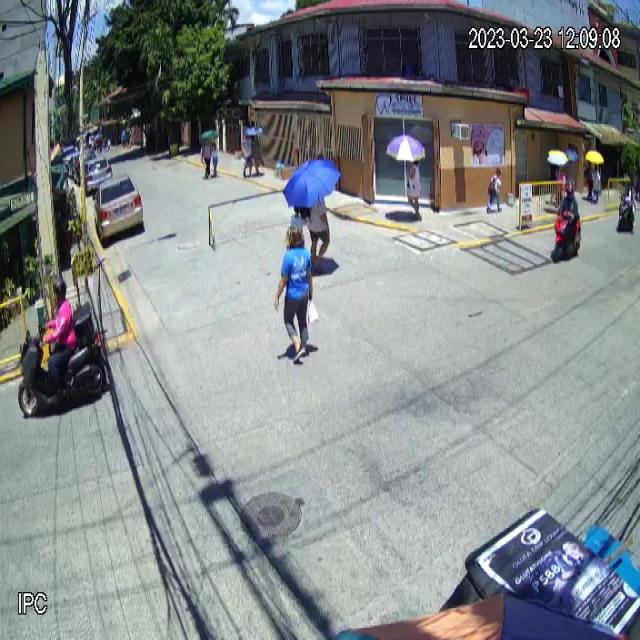Motorcycle: (16, 303, 109, 422)
